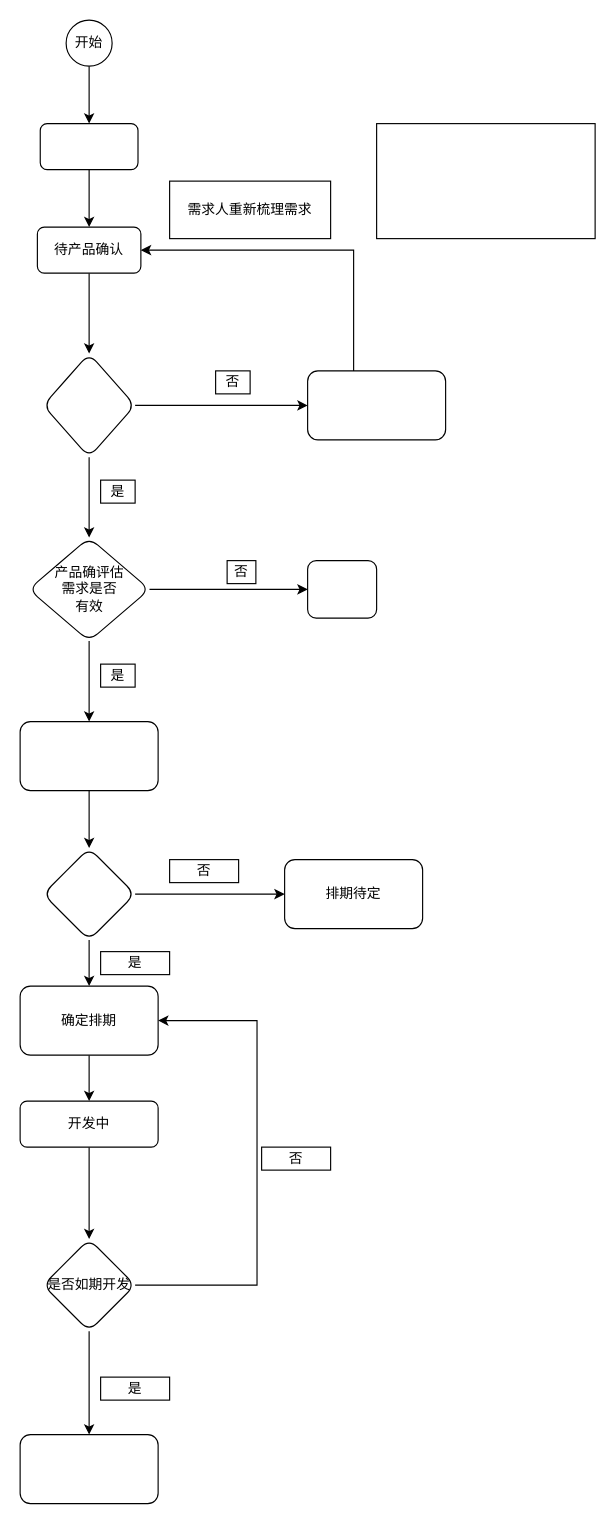
The diagram is 615 pixels wide and 1524 high, and some of its shapes have lost their labels. The shapes that lost their labels are listed below. From the top down, each one's box as (x1, y1, x2, y2) in pixels, then its label:
(39, 122, 138, 170): 需求人 提交需求
(375, 122, 595, 239): 需求类型： 1. 新功能 2. 优化 3. Bug 4. 疑似Bug（待定）
(42, 352, 135, 457): 需求是否 清晰明确
(306, 370, 446, 440): 待需求人确认
(306, 559, 377, 618): 拒绝
(19, 720, 158, 791): 产品内部评估工作量&影响范围
(42, 847, 135, 940): 是否可排期
(19, 1433, 158, 1504): 开发完成，产品发版
